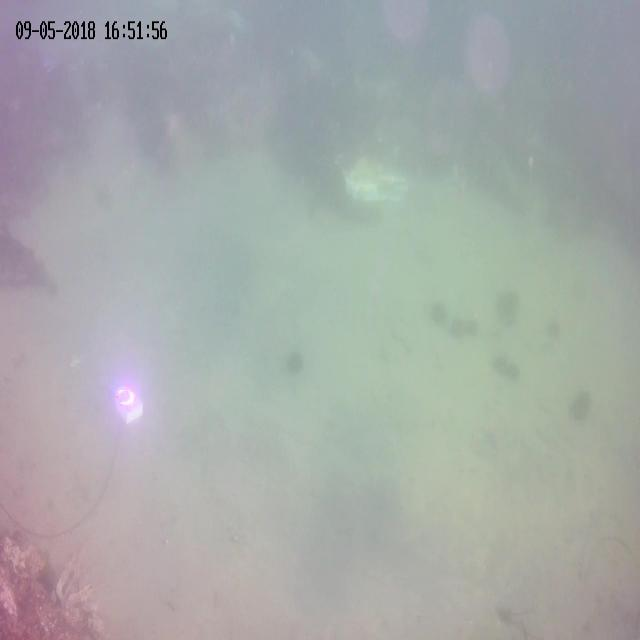echinus: (496, 288, 515, 318), (572, 390, 590, 420), (431, 299, 447, 326), (287, 350, 302, 376), (451, 314, 464, 343), (494, 350, 507, 374), (546, 320, 560, 342), (508, 358, 520, 382), (466, 316, 476, 338)
